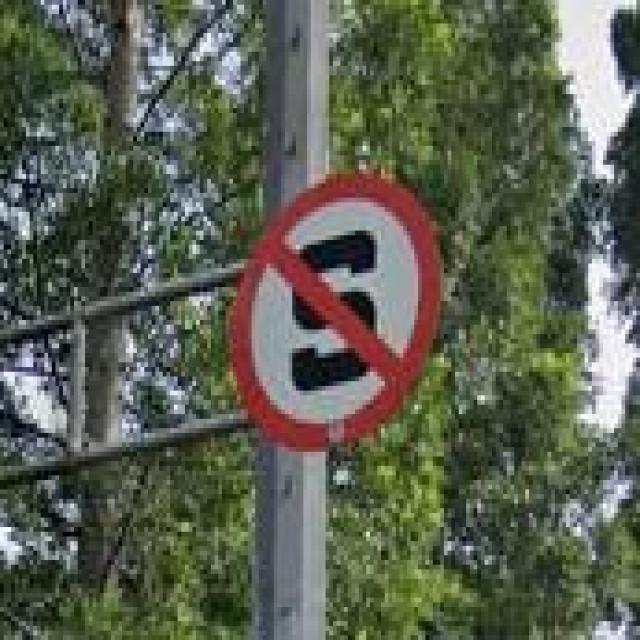traffic sign: (233, 179, 444, 456)
